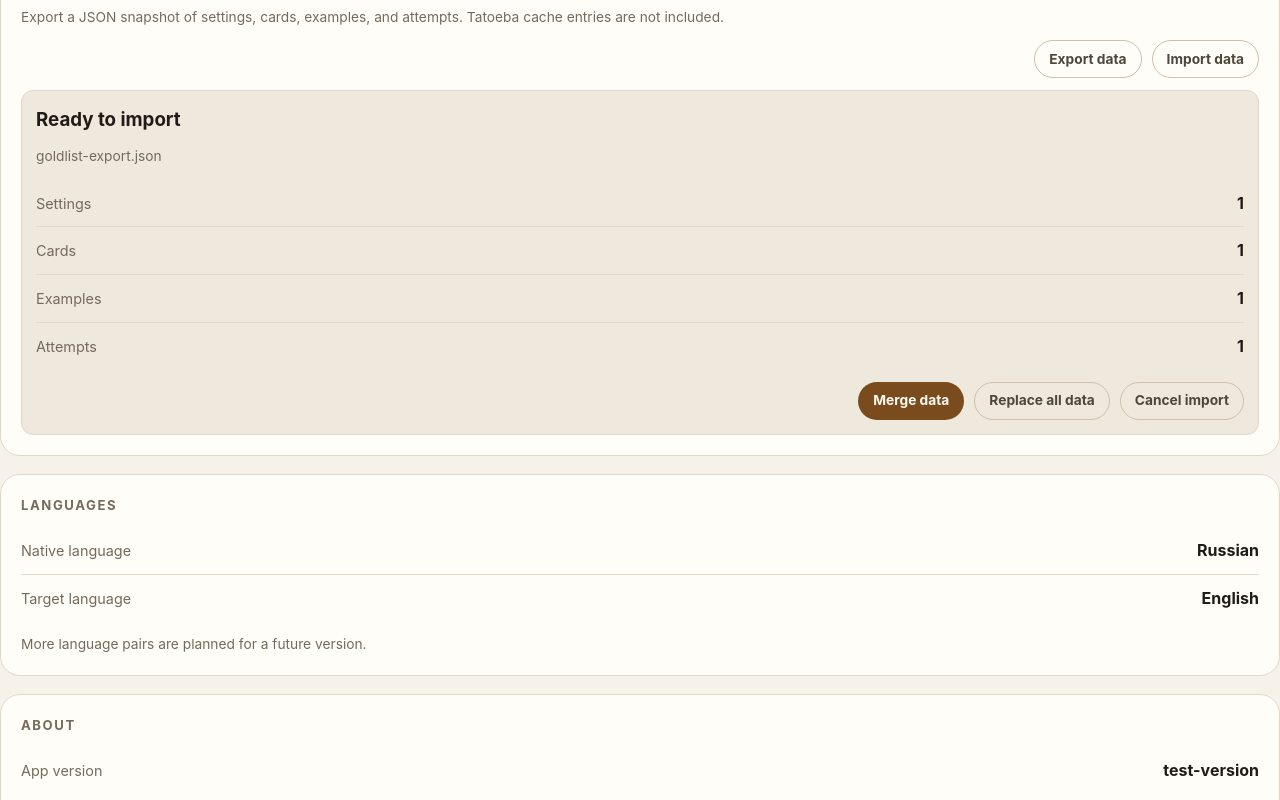
Scenario: SettingsPage › merges imported data
Earlier steps of the test are not shown.
(page scrolled)
Expected: the heading "Ready to import" is shown, [36,108,181,131]
What coordinates should you click on to do the following:
click the button "Merge data"
I would click on:
 (911, 401)
Its box is [858,382,964,420].
(page scrolled)
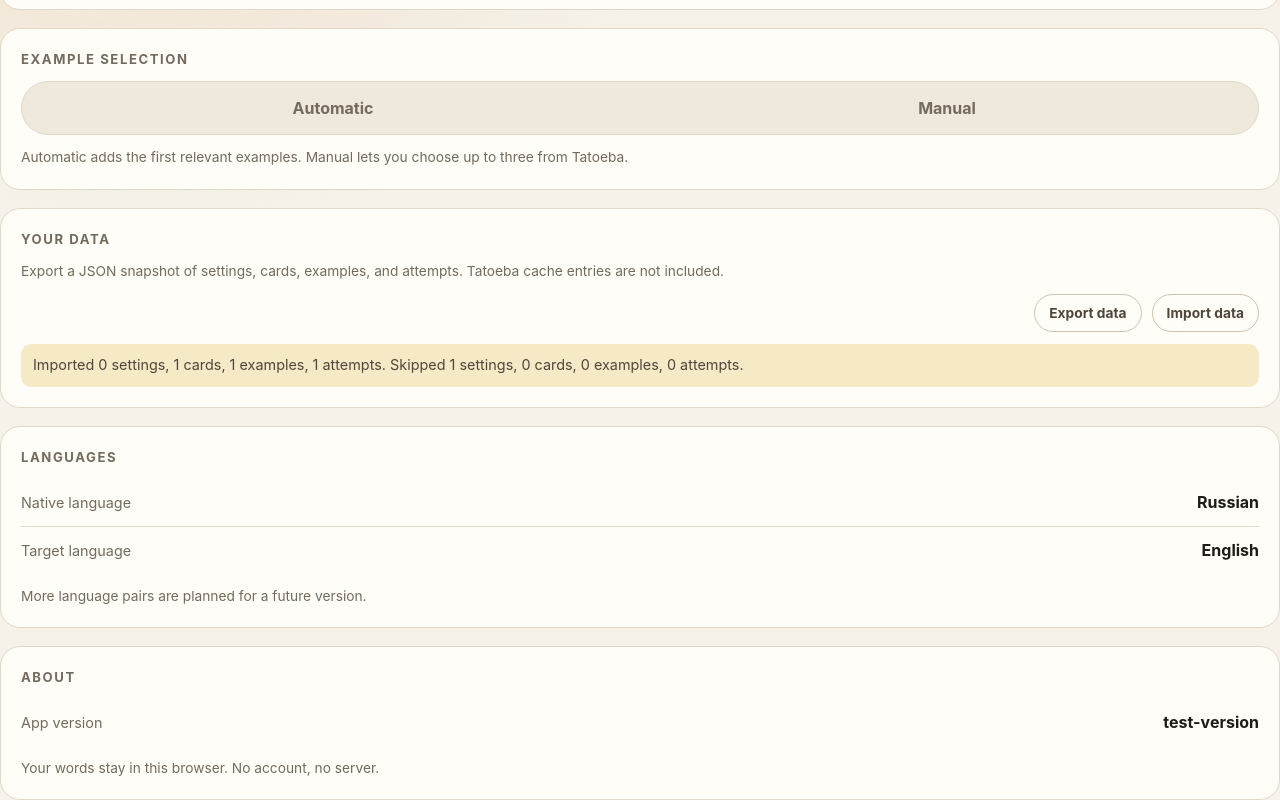
Now the text "Imported 0 settings, 1 cards, 1 examples, 1 attempts" is shown, box [33,356,744,373]
